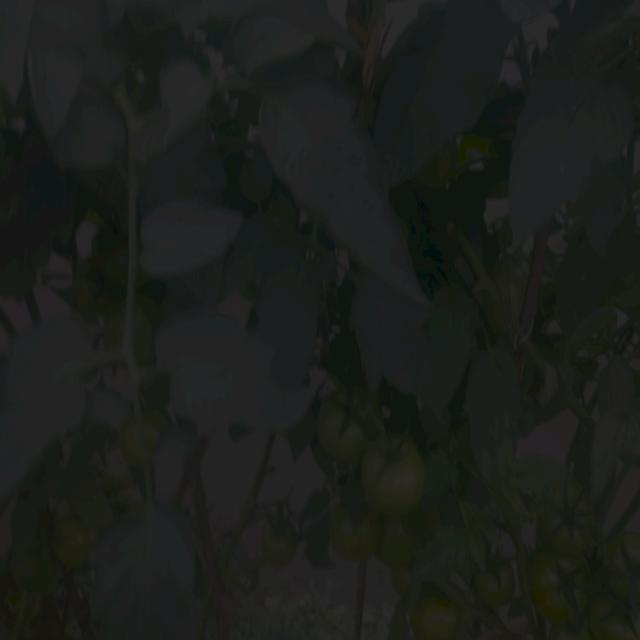tomato: (364, 437, 433, 516), (526, 545, 592, 626), (318, 387, 386, 462), (327, 504, 387, 559), (544, 481, 594, 547), (405, 590, 466, 640), (382, 512, 432, 566), (47, 512, 99, 563), (594, 584, 640, 640), (129, 299, 164, 368), (478, 559, 521, 615), (257, 519, 302, 568), (605, 533, 640, 595), (127, 415, 166, 461), (99, 302, 132, 353), (115, 486, 145, 519)
